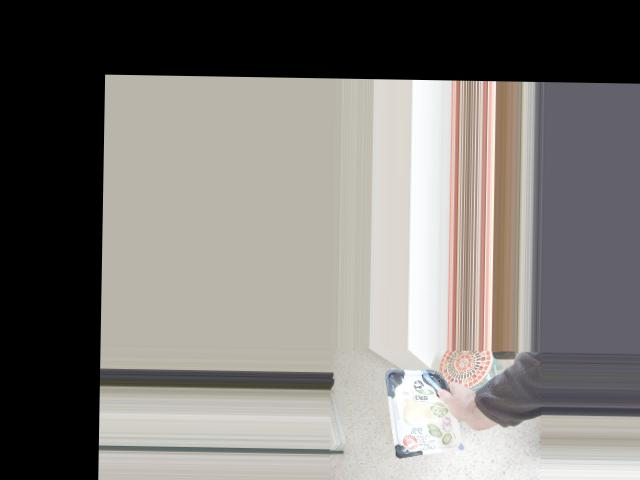cheese: (406, 385, 477, 456)
